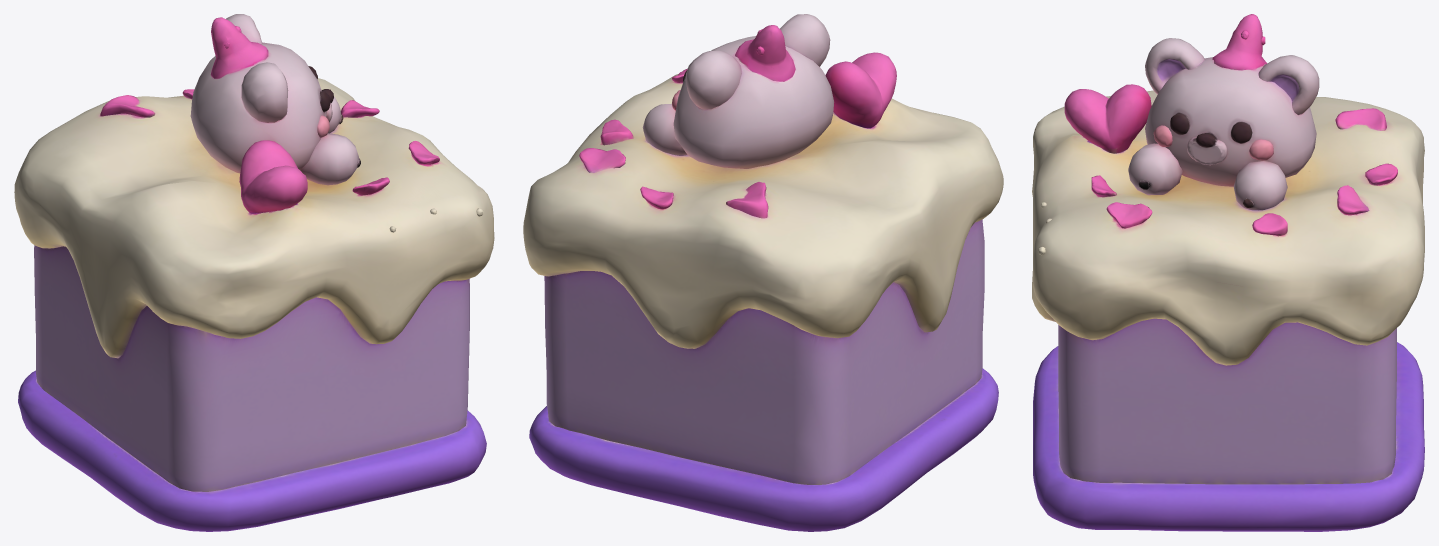
Rendered from Tripo_cherry_pedestal.fbx.
3 renders of one model, left to right at view 1: azimuth 30°, elevation 25°; view 2: azimuth 150°, elevation 25°; view 3: azimuth 270°, elevation 25°, orthographic.
Visible parts, largest first — view 1: Tripo_cherry_pedestal; view 2: Tripo_cherry_pedestal; view 3: Tripo_cherry_pedestal.
Boxes of the visible parts, <box> form: Tripo_cherry_pedestal: <box>14,14,494,531</box>; Tripo_cherry_pedestal: <box>523,14,1003,531</box>; Tripo_cherry_pedestal: <box>1032,14,1424,531</box>.
Bounding box in the file's own units: 0.8418 × 0.998 × 0.8223.
1 material, 1 textured.
